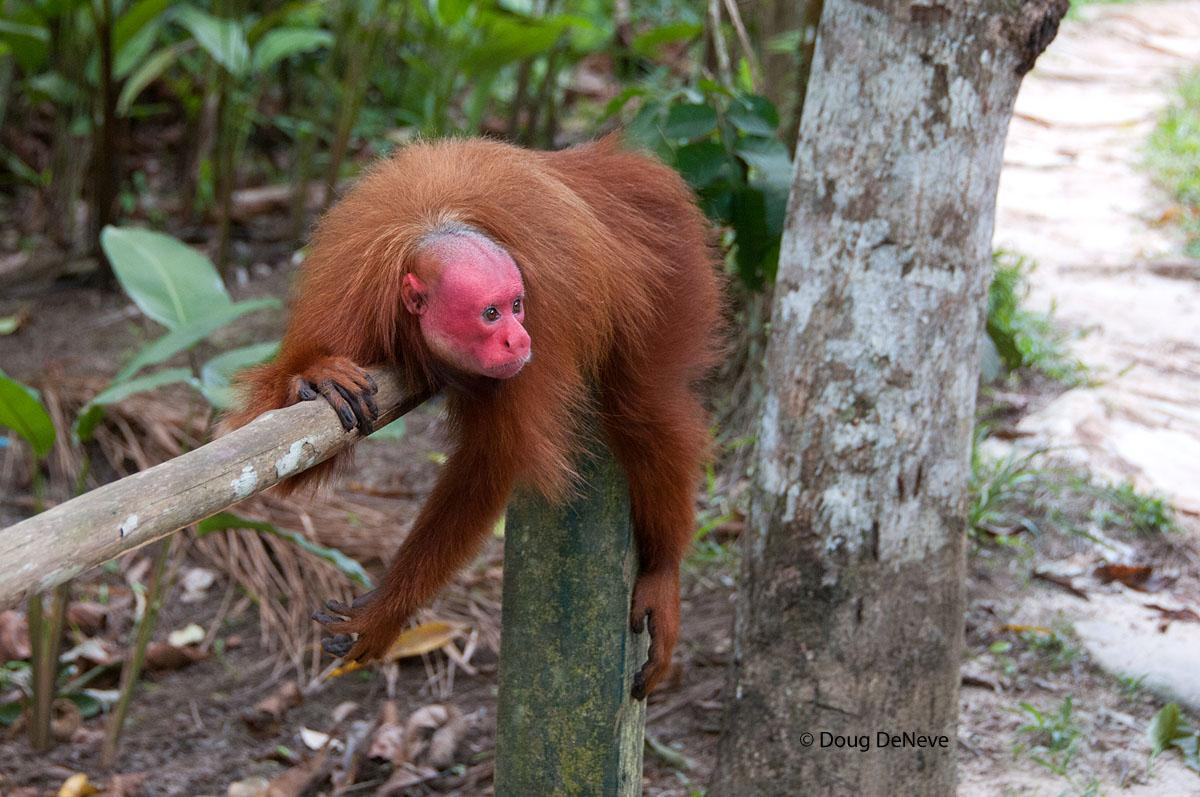monkey: (244, 136, 733, 705)
